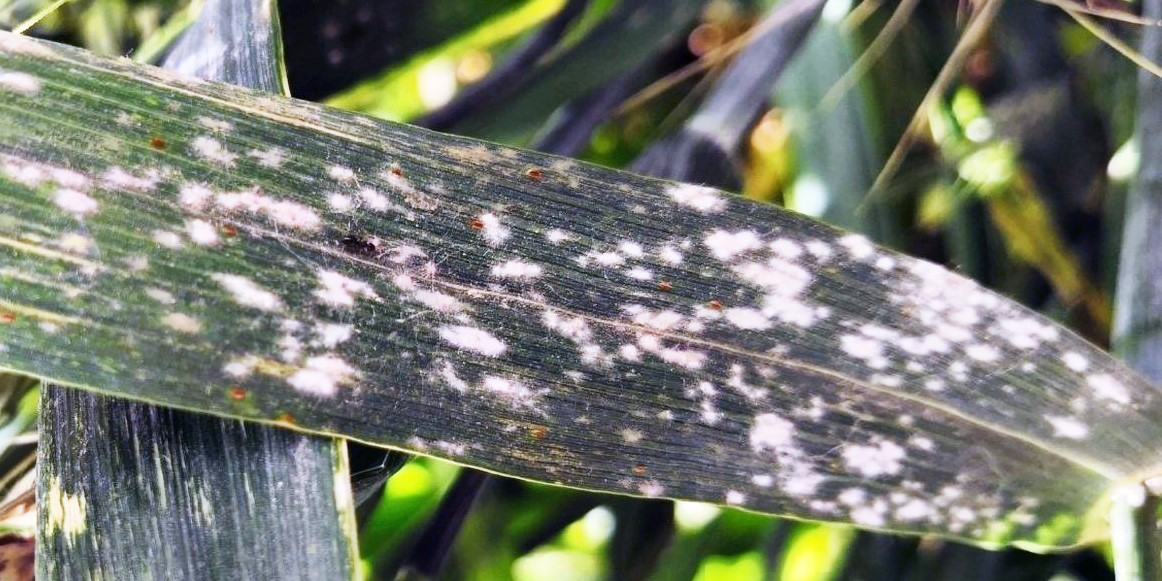Powdery Mildew: (135, 111, 1021, 548)
